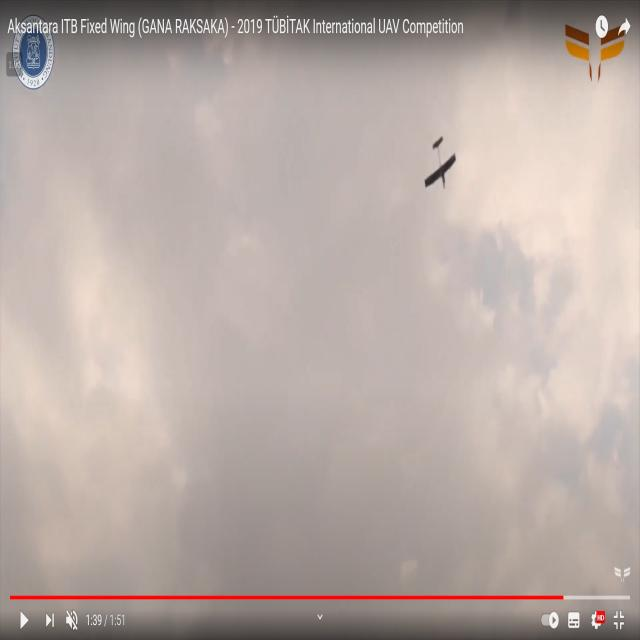iha: (424, 134, 457, 190)
